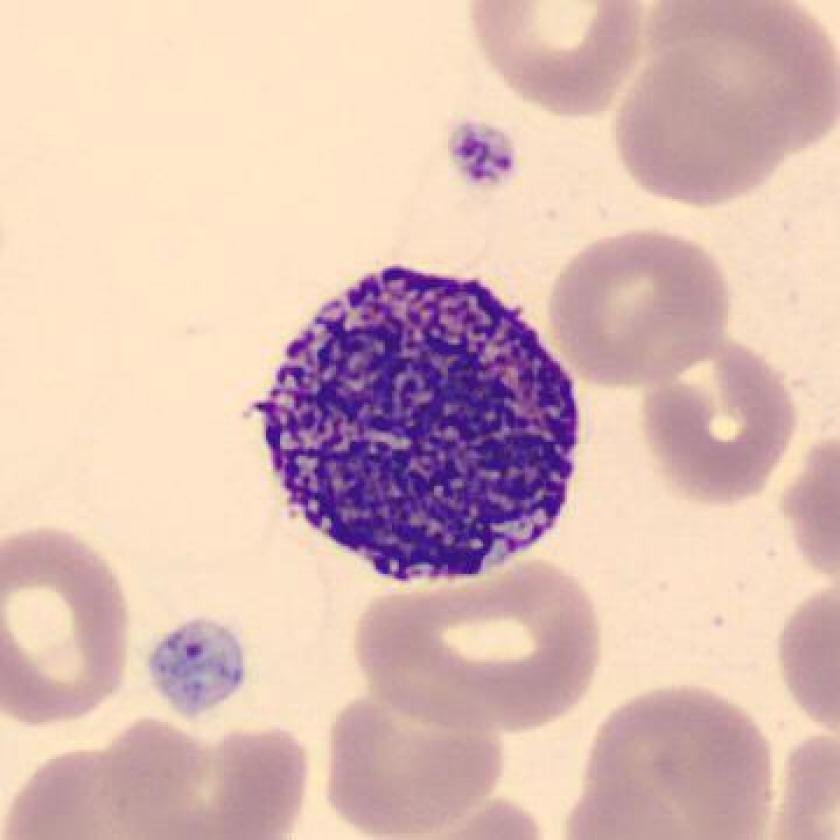basophil: (246, 258, 594, 577)
